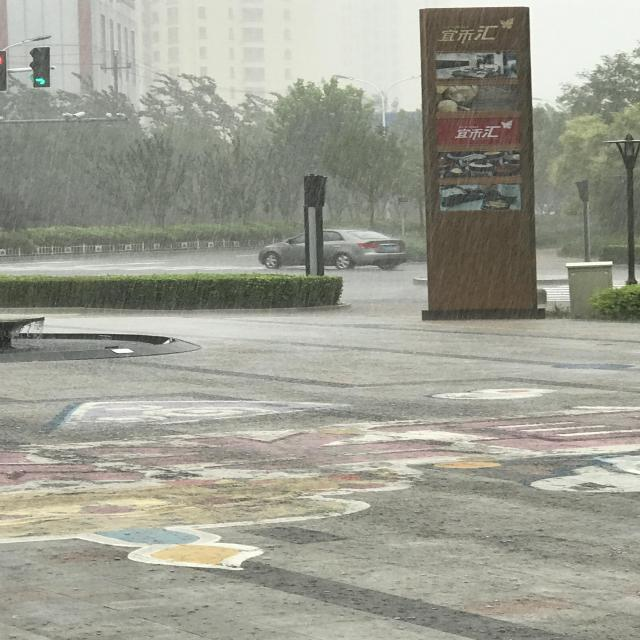car: (226, 230, 274, 386)
